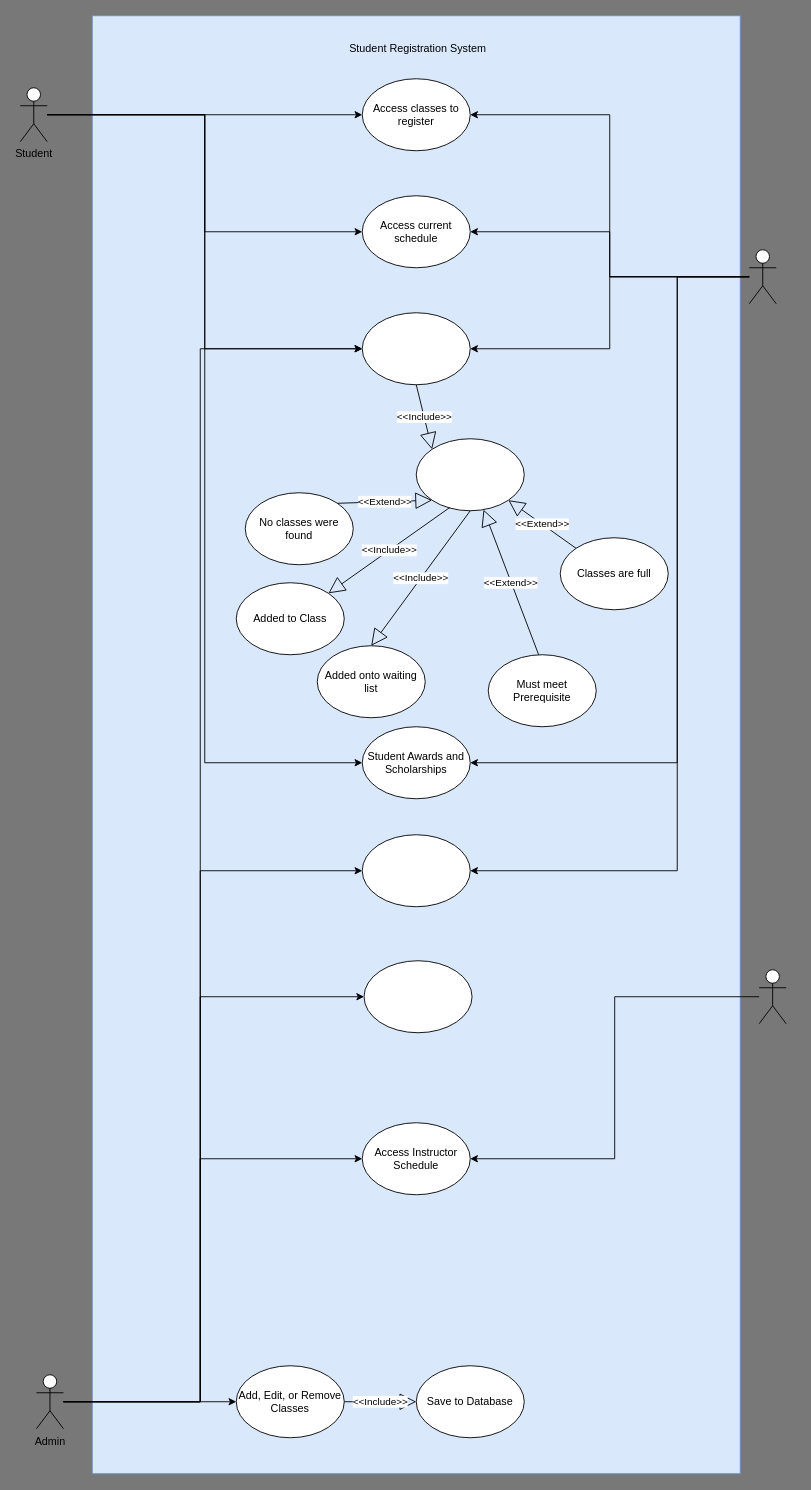
Some shapes in this 811 by 1490 pixel diagram are drawn without their labels. Each missing label, with the box of its shape:
Edit Student information: (361, 834, 470, 907)
Edit, Add, or Remove classes for instructor: (363, 960, 472, 1033)
Instructor: (758, 969, 786, 1024)
Register for Classes: (361, 312, 470, 385)
Registrar: (748, 249, 776, 304)
Verify if Classes are available: (415, 438, 524, 511)
